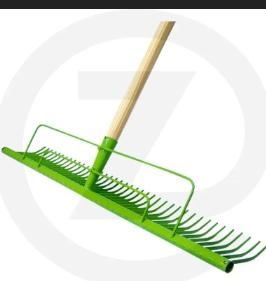RATEAU: (0, 12, 266, 281)
